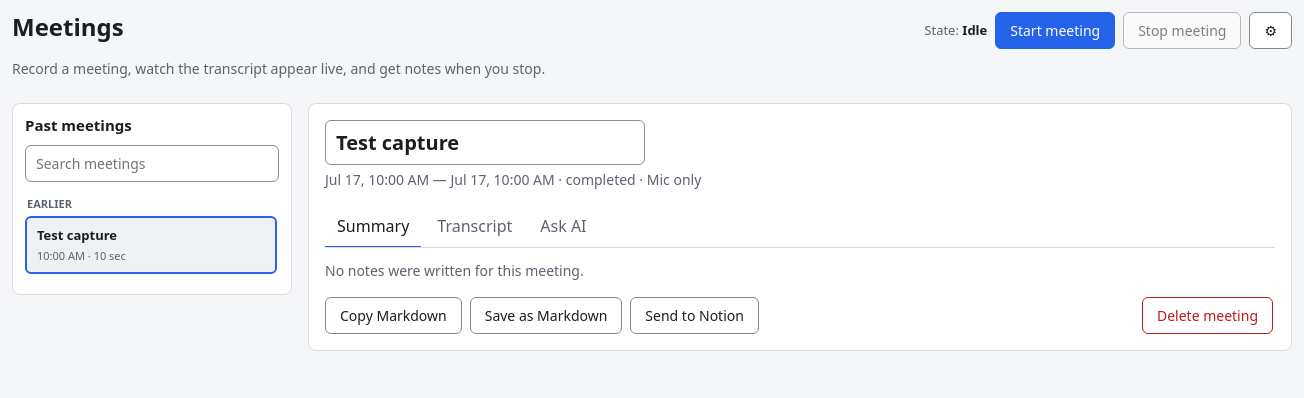
Test: MeetingsPage › sends a meeting to Notion and shows where it landed
Click the option "Test capture 10:00 AM · 10 sec".
click(151, 245)  # box [25,216,277,274]
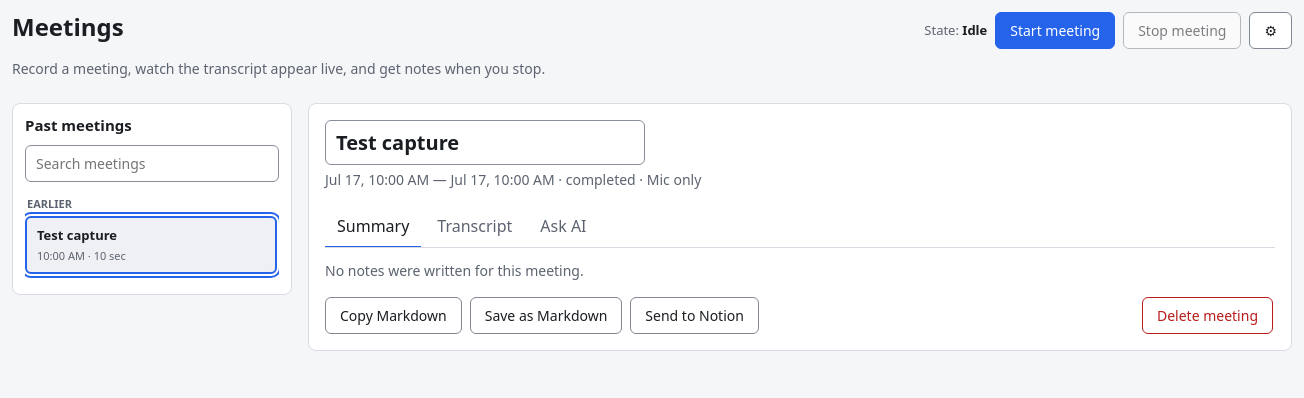
Click the button "Send to Notion".
click(695, 316)  # box [630,297,759,334]
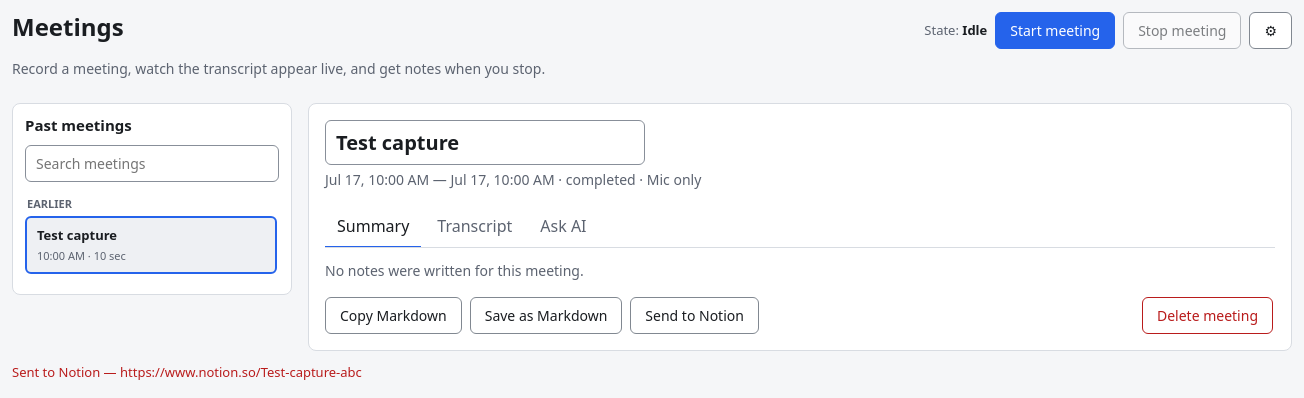
Expected: the text "Sent to Notion — https://www.notion.so/Test-capture-abc" is shown, [12,363,362,381]
